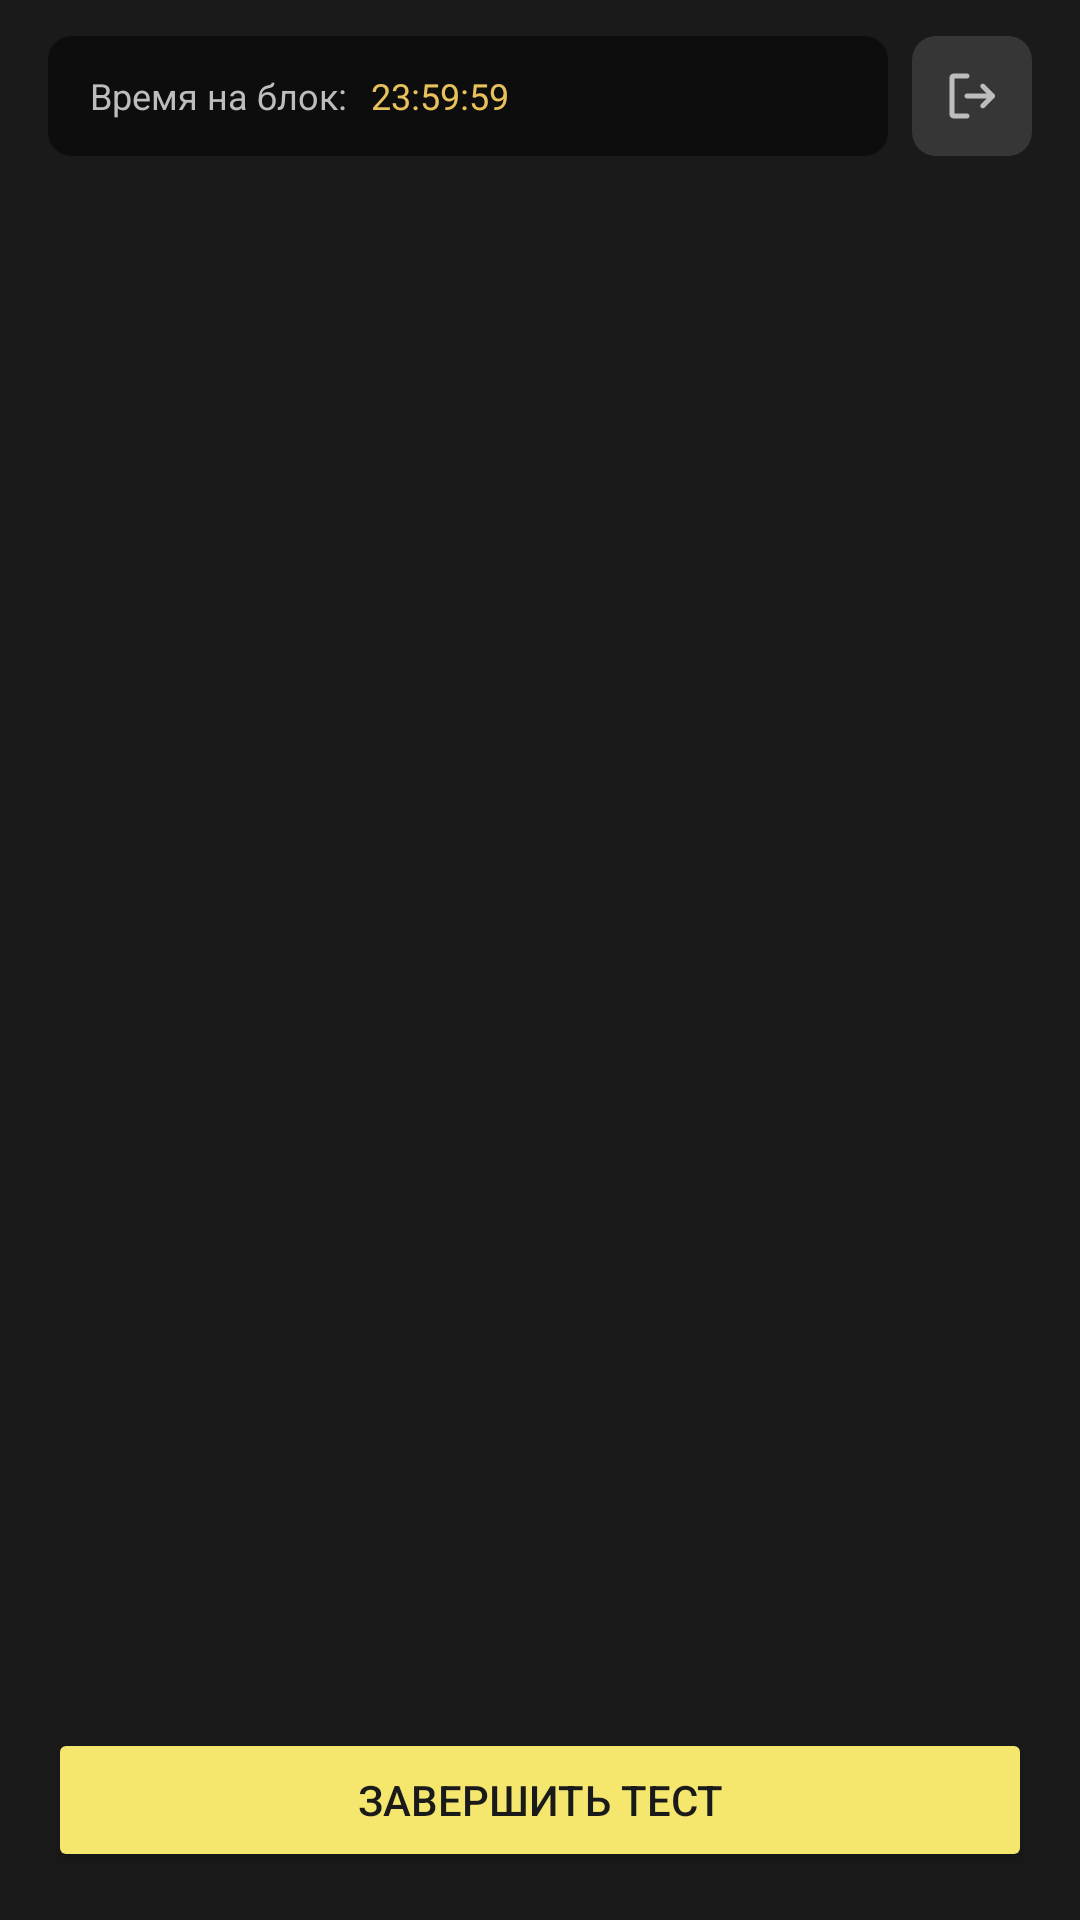

Icon click points for this 1080x1920 phone screenshot, format [x,y]:
Exit: [972,96]
